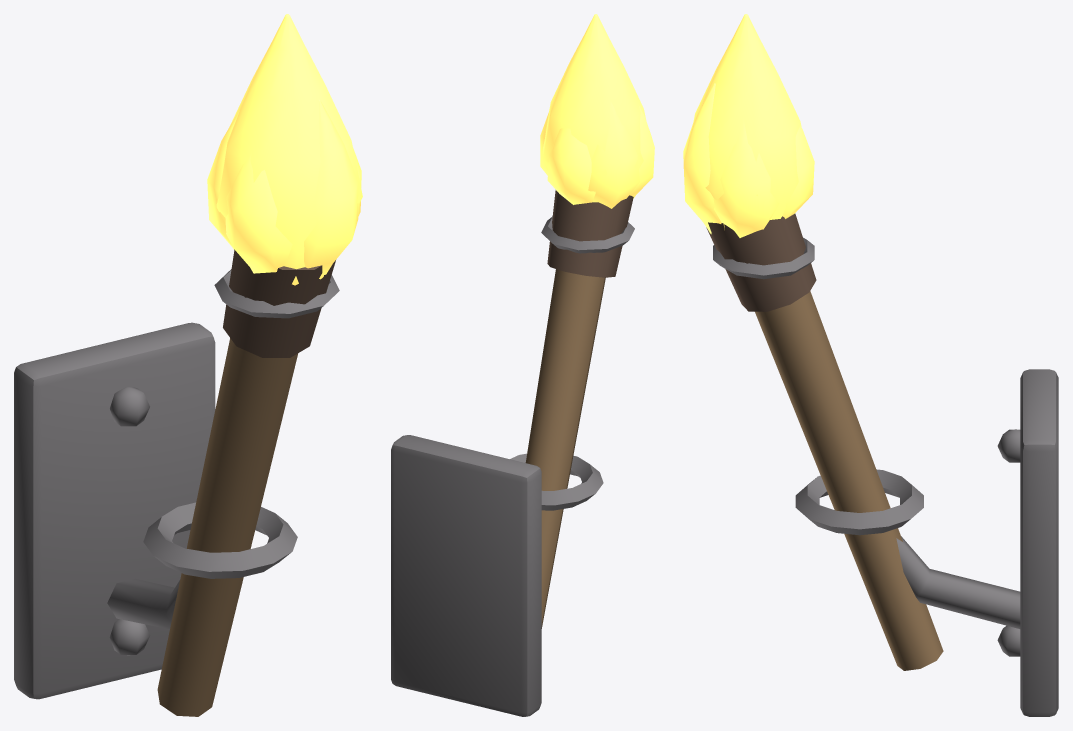
Rendered from torch_wall.glb.
The picture shows the model from 3 angles, left to right: view 1: azimuth 30°, elevation 25°; view 2: azimuth 150°, elevation 25°; view 3: azimuth 270°, elevation 25°; orthographic projection. The views are drawn at different scales.
Parts seen in each view (by area): view 1: torch_wall, flame; view 2: torch_wall, flame; view 3: torch_wall, flame.
Part boxes in pixels (x1,y1,x2,y2): torch_wall: (14, 249, 339, 716); flame: (207, 14, 362, 285); torch_wall: (391, 190, 634, 716); flame: (540, 14, 654, 208); torch_wall: (706, 213, 1058, 716); flame: (683, 14, 814, 237).
Size of the model in its own units: 0.12 by 0.4815 by 0.2454.
